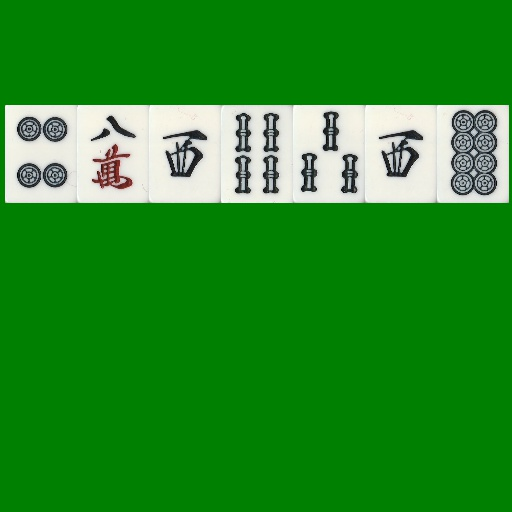3s: (293, 105, 365, 203)
4p: (5, 105, 77, 203)
4s: (221, 105, 293, 203)
8m: (77, 105, 149, 203)
8p: (437, 105, 509, 203)
west: (149, 105, 221, 203), (365, 105, 437, 203)
